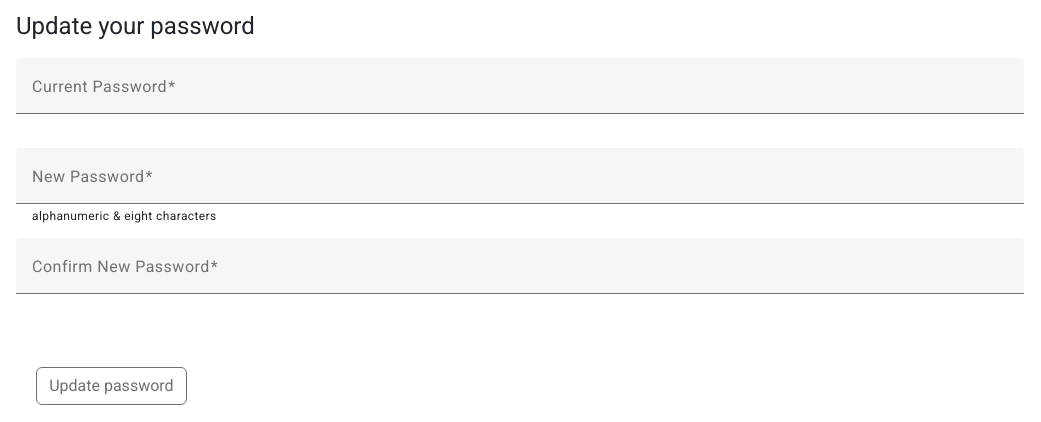
it: AccountManagePasswordComponent › form completion and submission › old password control › password control › should show minlength validation messages when password input less tha minimum length
Type "k1" into the password field with placeholder "password" at {"x": 520, "y": 184}, box x1=32 y1=172 x2=1008 y2=196
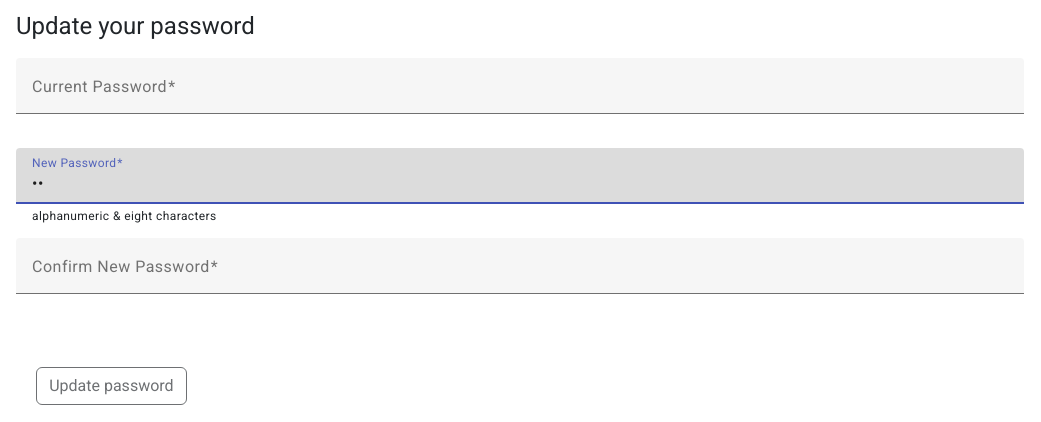
Leave the 2nd password field, box x1=32 y1=172 x2=1008 y2=196
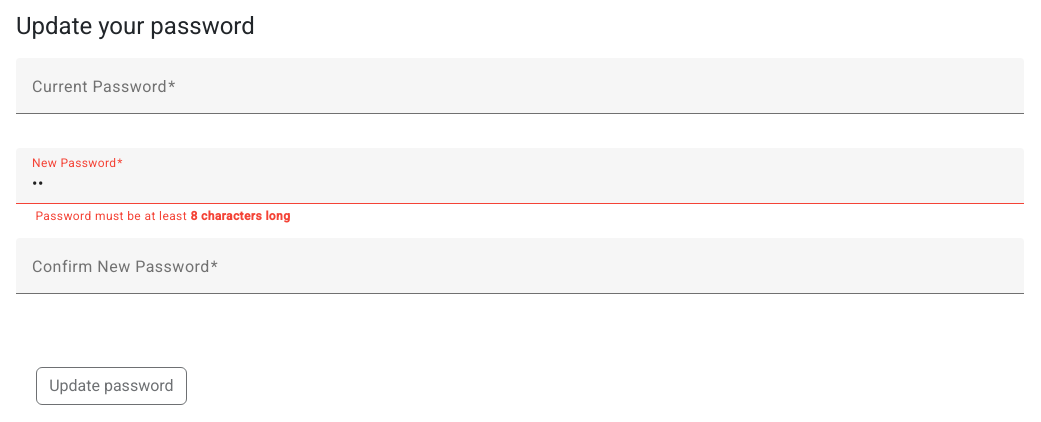
expect the element showing "Password must be at least 8 characters long" is shown: met, box x1=32 y1=209 x2=290 y2=223
